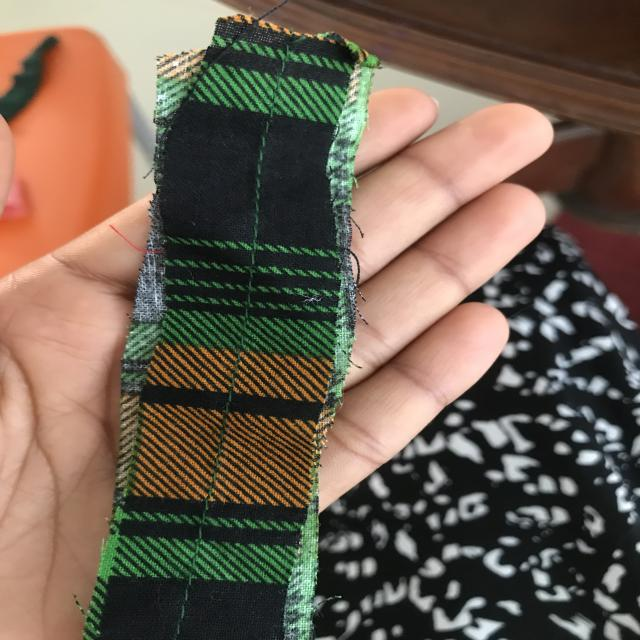good: (240, 130, 276, 224)
